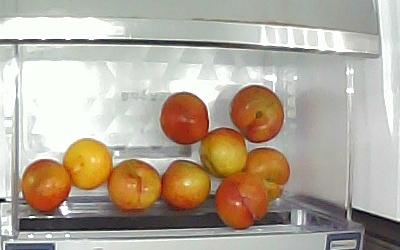prune: (229, 84, 284, 143), (215, 173, 269, 229), (62, 139, 114, 191), (108, 160, 162, 210), (163, 158, 212, 211), (160, 92, 209, 144), (200, 127, 249, 179), (22, 160, 71, 211), (242, 148, 290, 199)
